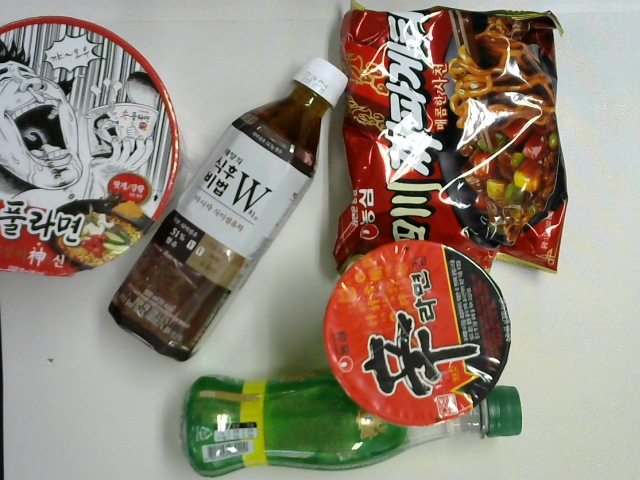Hejangpul: (1, 13, 184, 278)
Post-meal_recipe_W_tea_500ml: (107, 56, 350, 367)
Seagram_Lemon_Carbonated_Water: (181, 368, 526, 480)
Sichuan_Chapaghetti: (333, 2, 568, 276)
Sinramen_small: (318, 240, 513, 431)
